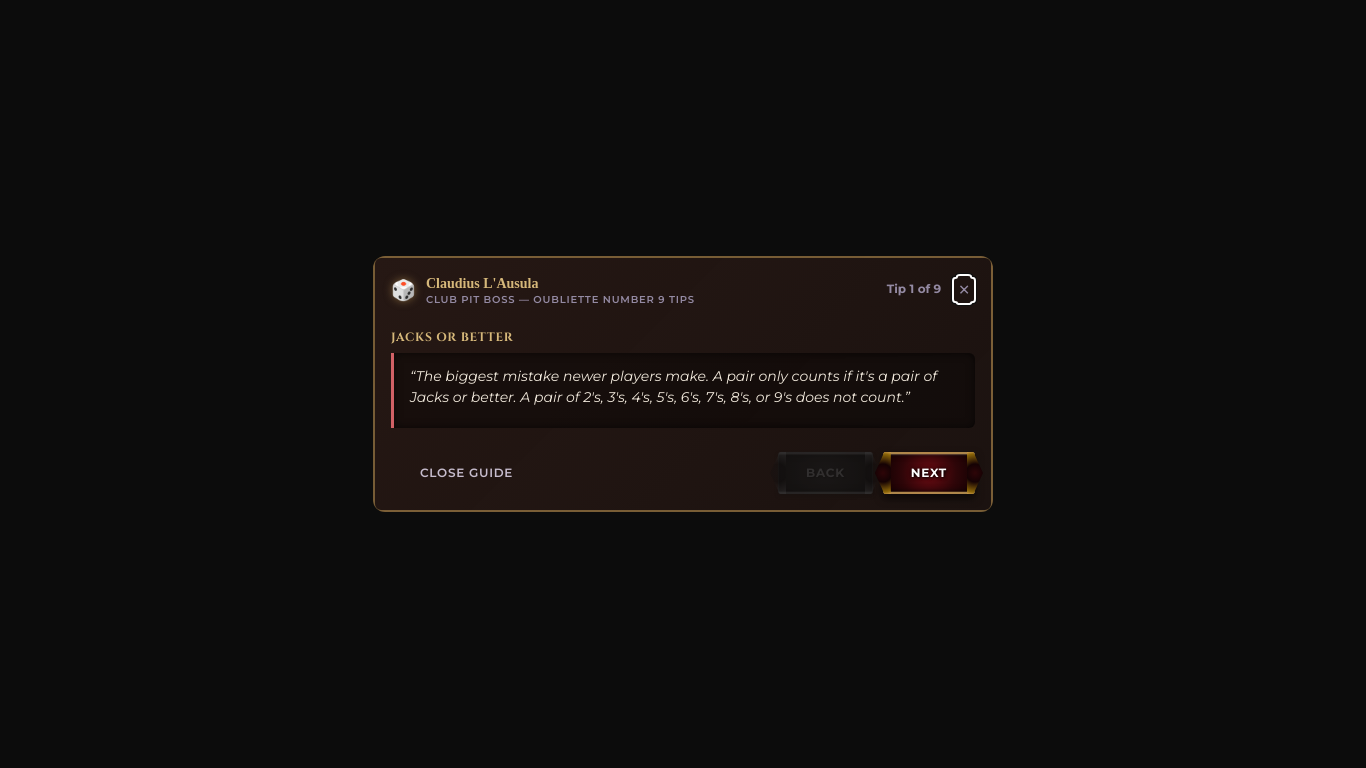
Test: GameTipsModal › shows first slide and advances with Next and goes back with Back
The image size is (1366, 768).
Expected: the heading "Jacks or Better" is shown, [391,329,513,345]
# Click Next
Click the button "Next" at [929, 473], box [883,452,975,494]
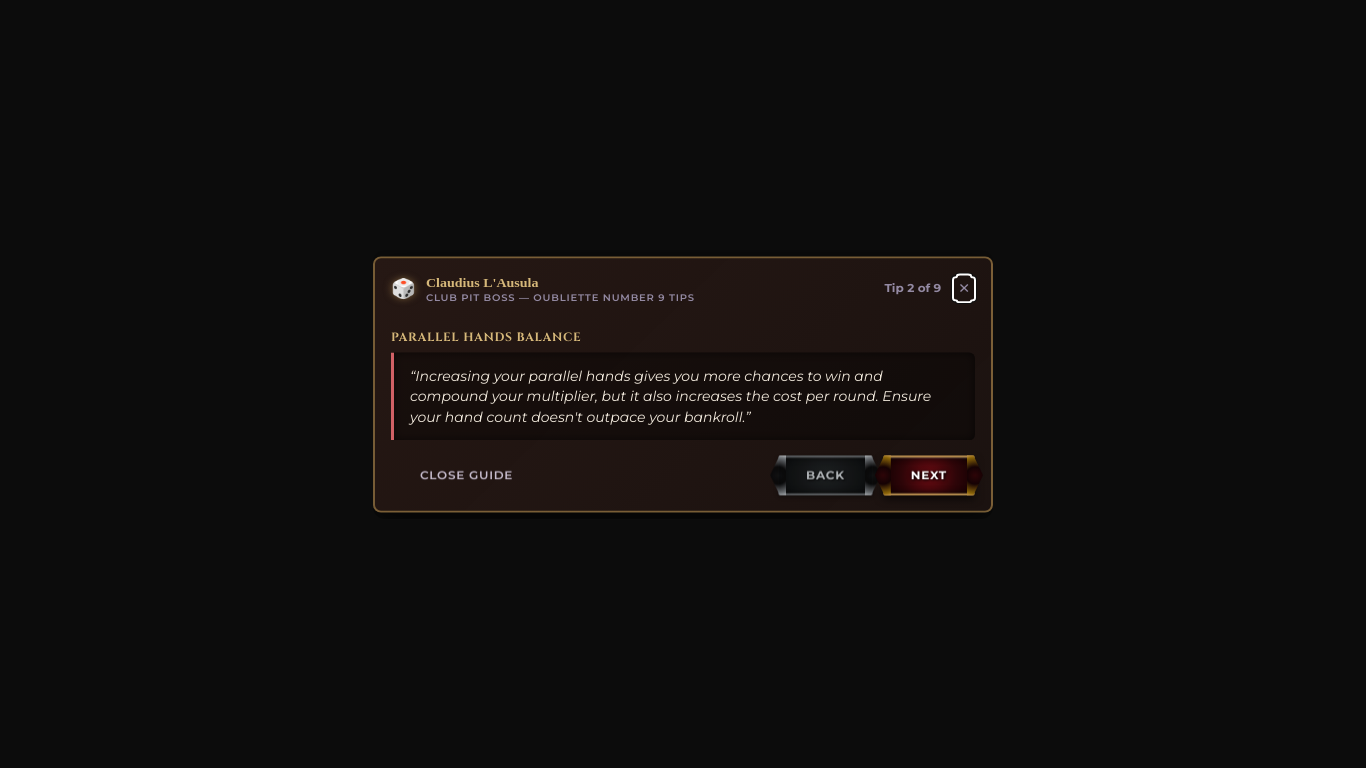
Expected: the heading "Parallel Hands Balance" is shown, [391,329,581,345]
# Click Back
Click the button "Back" at [825, 475], box [778,455,873,495]
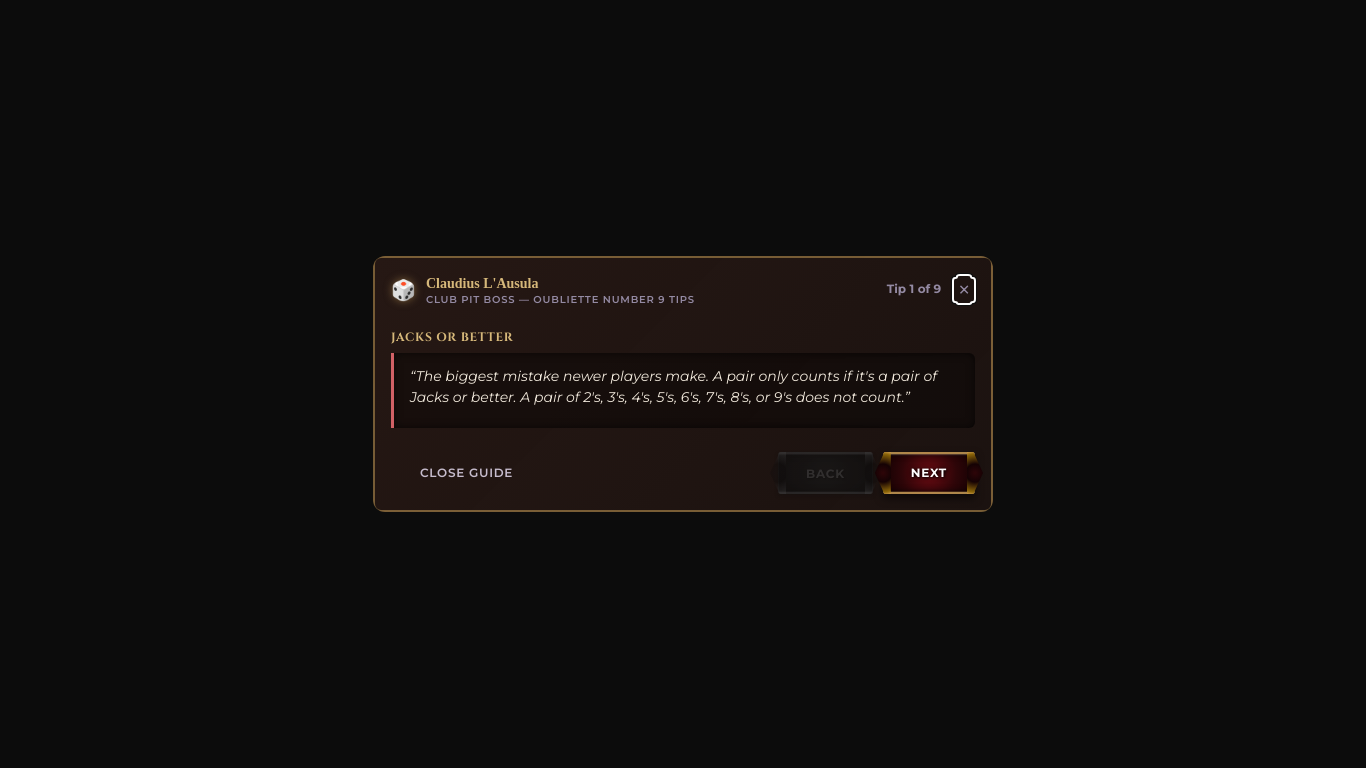
Expected: the heading "Jacks or Better" is shown, [391,329,513,345]
